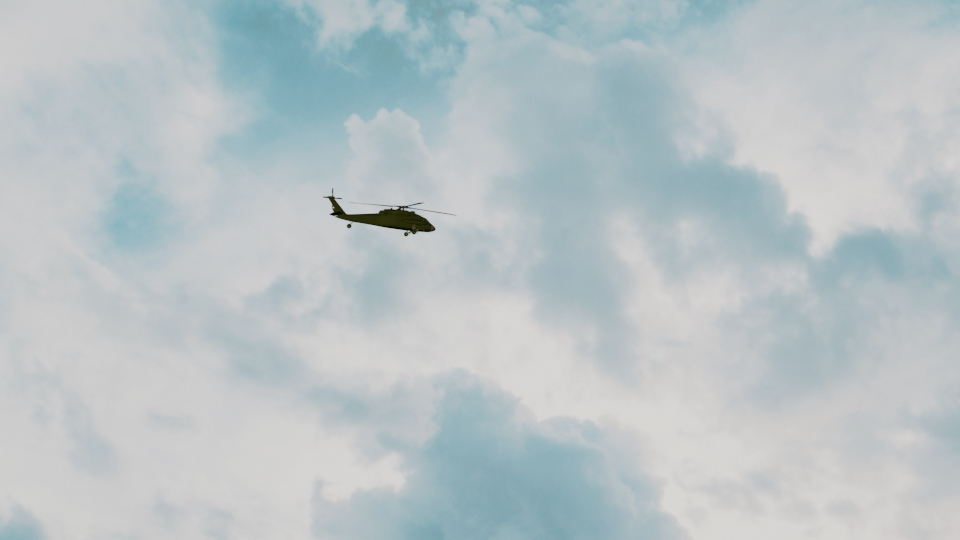heli: (321, 188, 440, 237)
